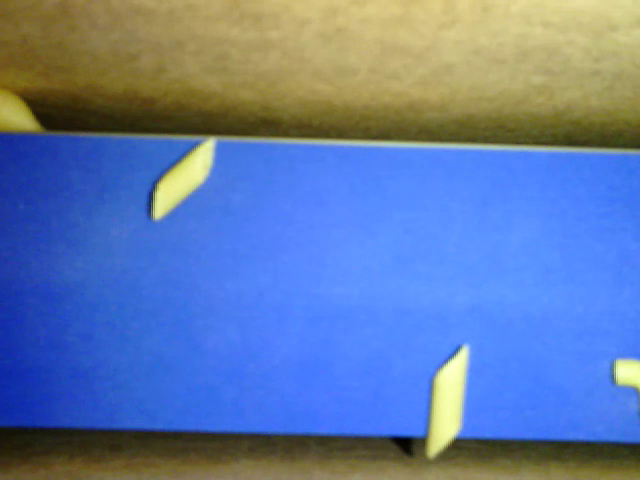elbow: (614, 357, 639, 393)
penne: (151, 137, 215, 220), (426, 343, 469, 458)
